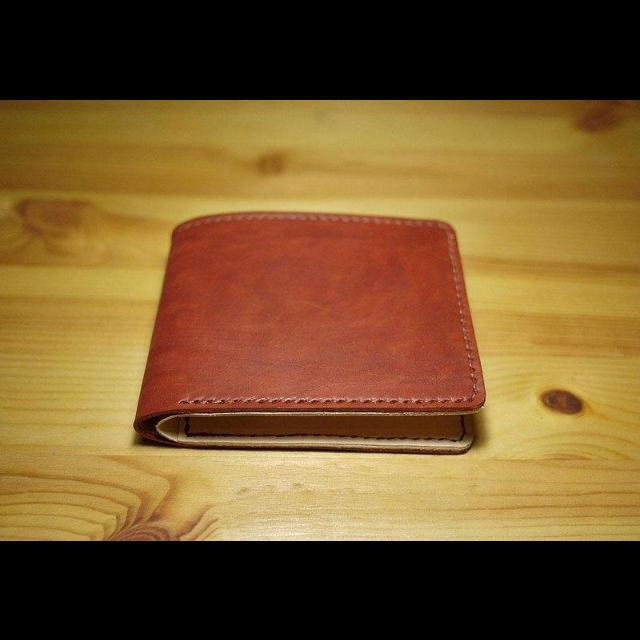wallet: (130, 207, 488, 461)
